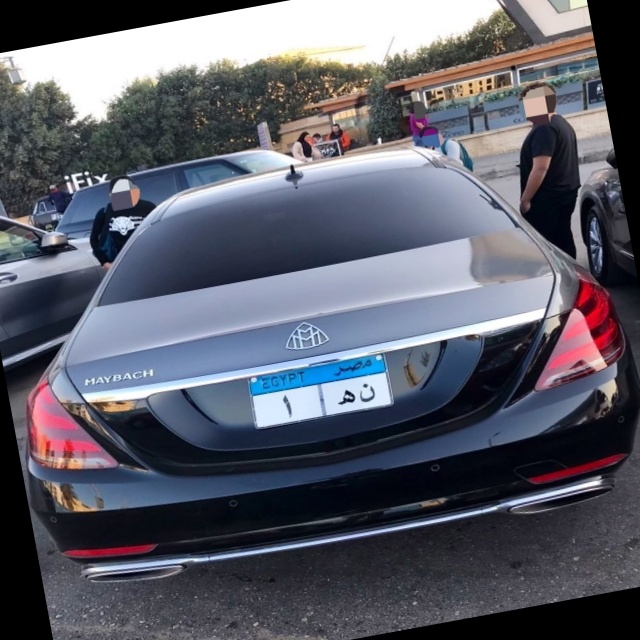License Plate: (244, 349, 396, 433)
